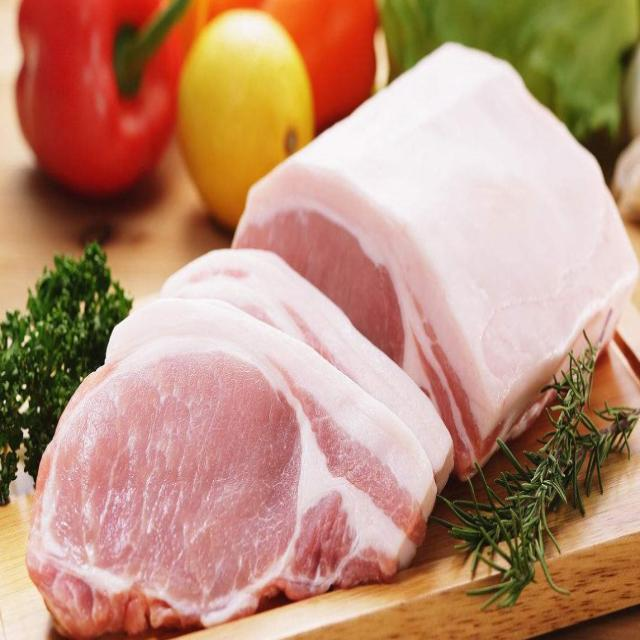pork: (240, 29, 614, 428), (36, 307, 428, 630)
